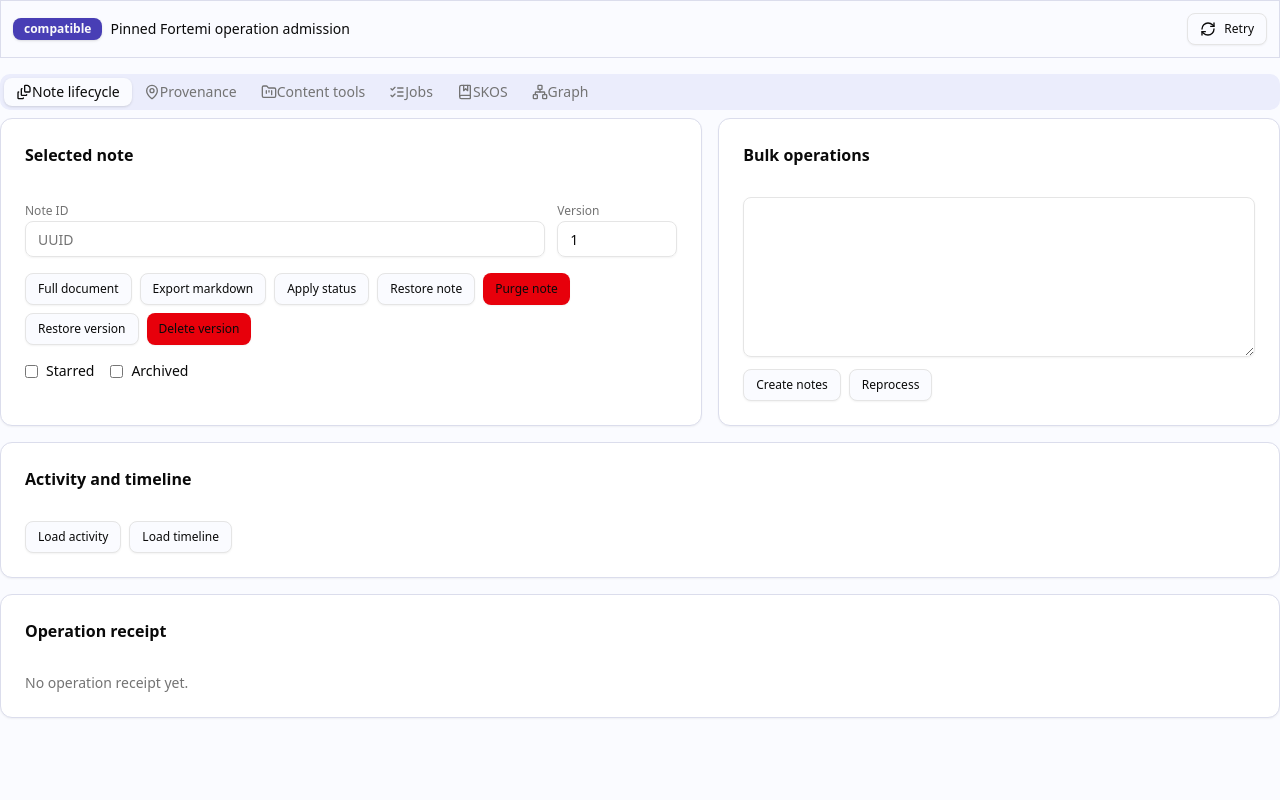
Scenario: CoreContentLifecyclePanel › confirms Purge note and records an auditable Queue purge receipt
Type "note-1" into the field labelled "Note ID" at (285, 239), box 25,221 -> 545,257
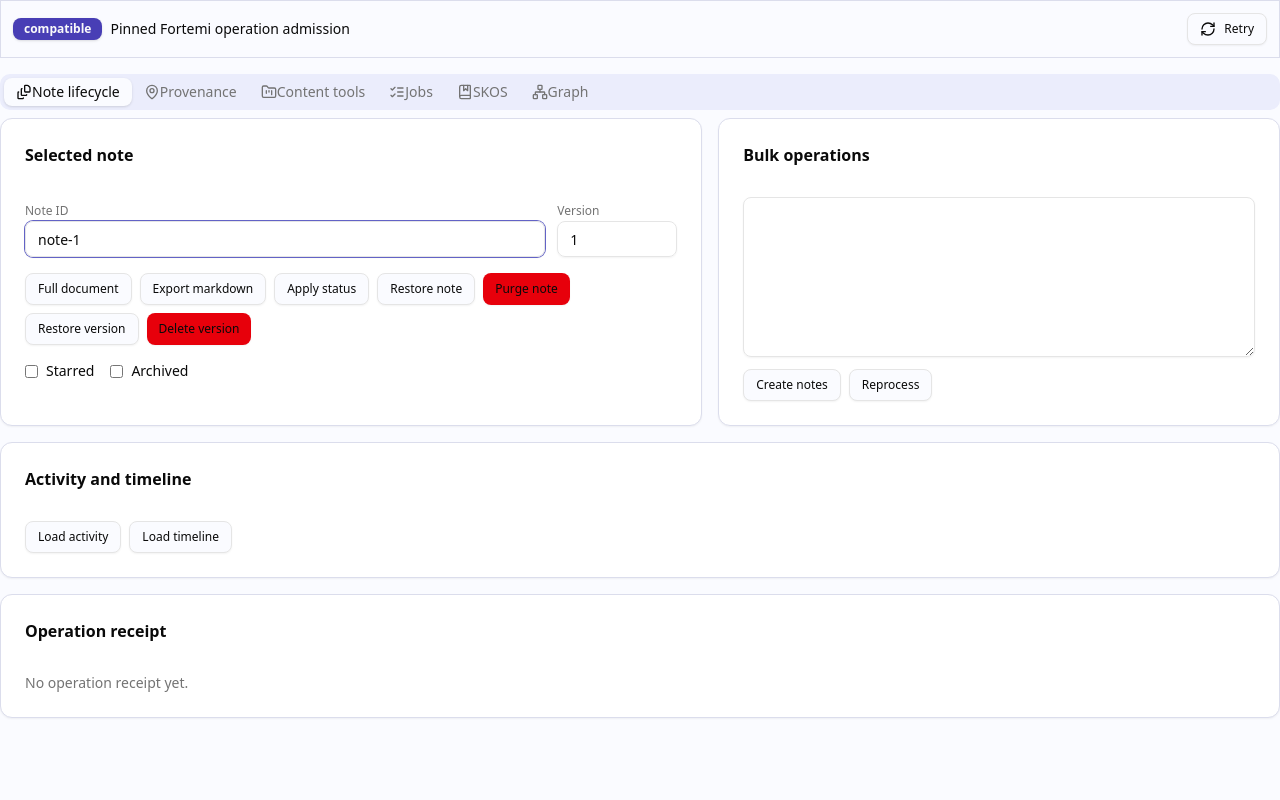
Click the button "Purge note" at (526, 289), box 483,273 -> 570,305
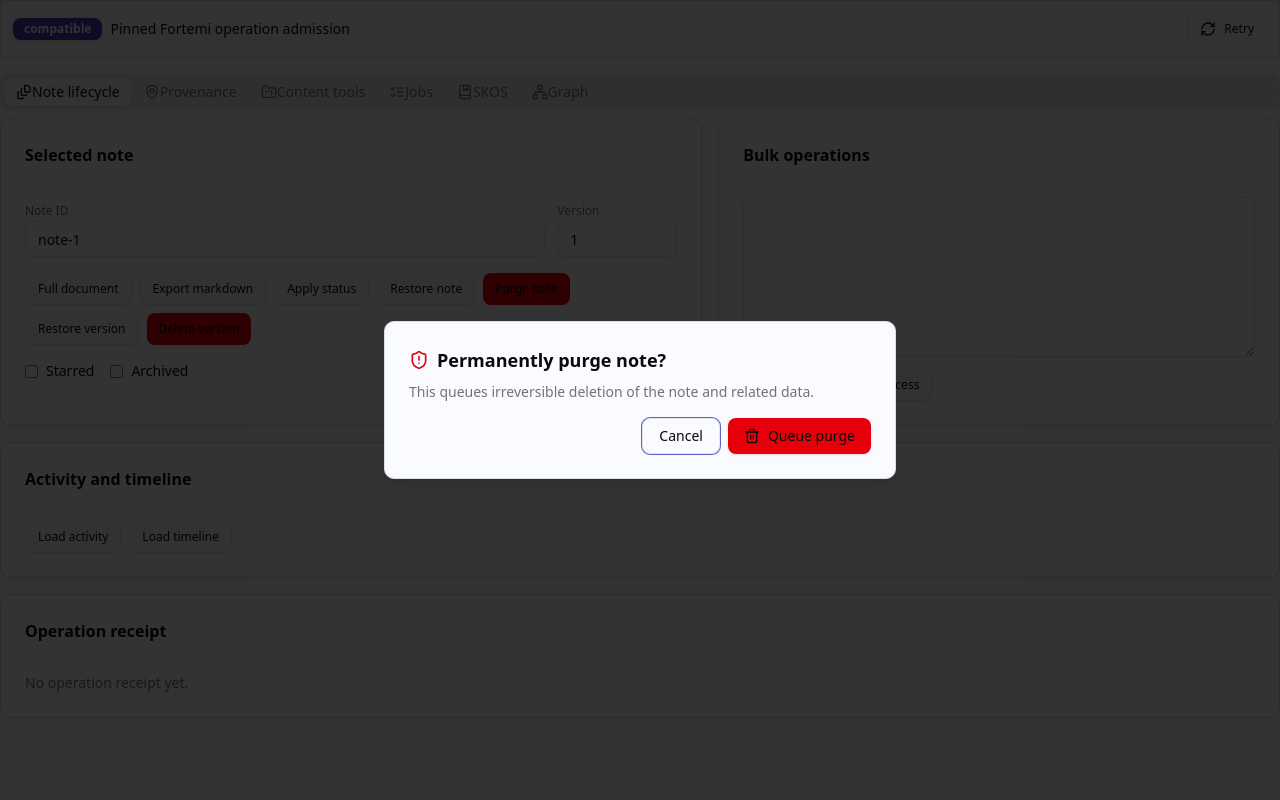
Expected: the text "Purge queued; job job-1 for note note-1." is not shown
Expected: the dialog is shown, 384,321 -> 896,479
Click the button "Queue purge" at (799, 436), box 728,418 -> 871,454
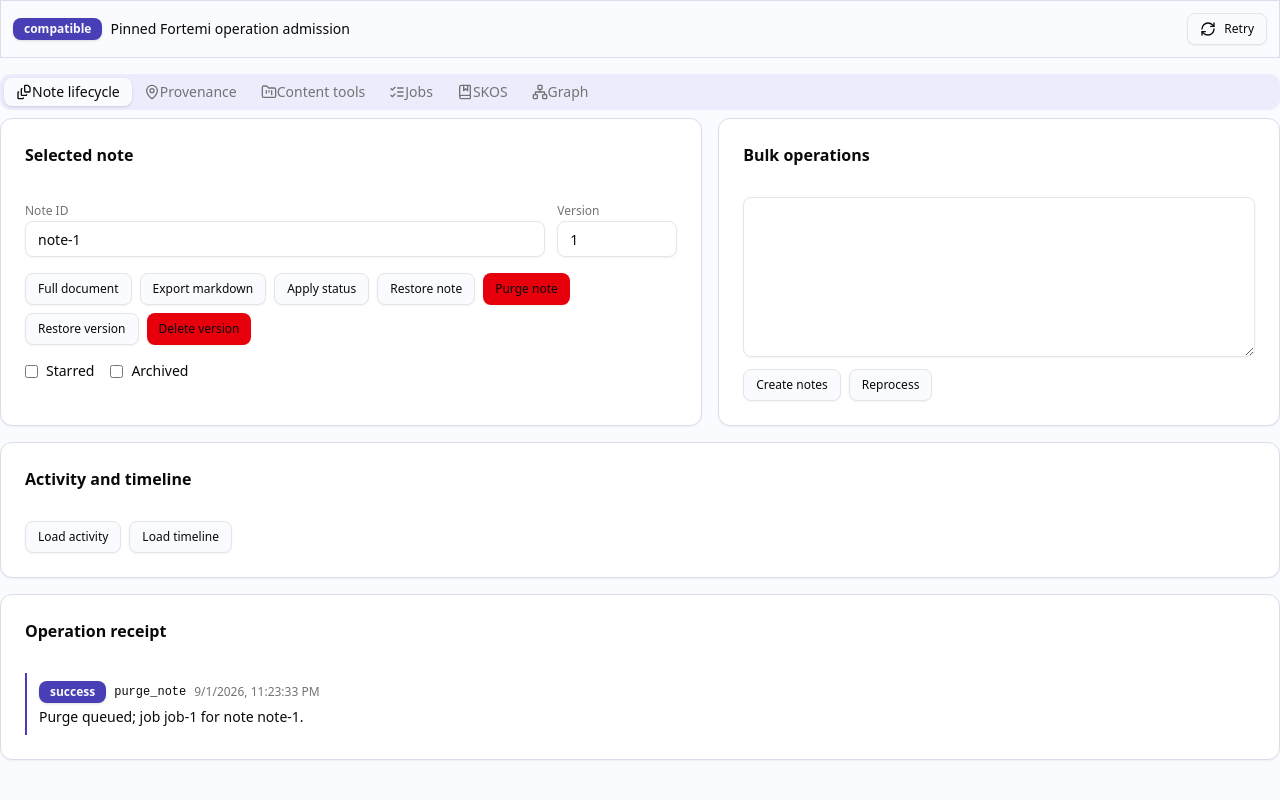
Expected: the text "purge_note" is shown, 114,684 -> 186,700
Expected: the text "Purge queued; job job-1 for note note-1." is shown, 39,707 -> 304,726
